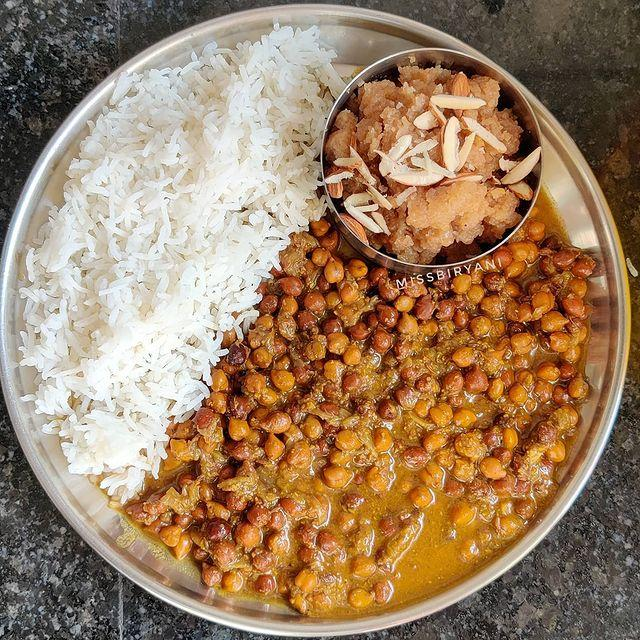Chole: (246, 289, 584, 588)
